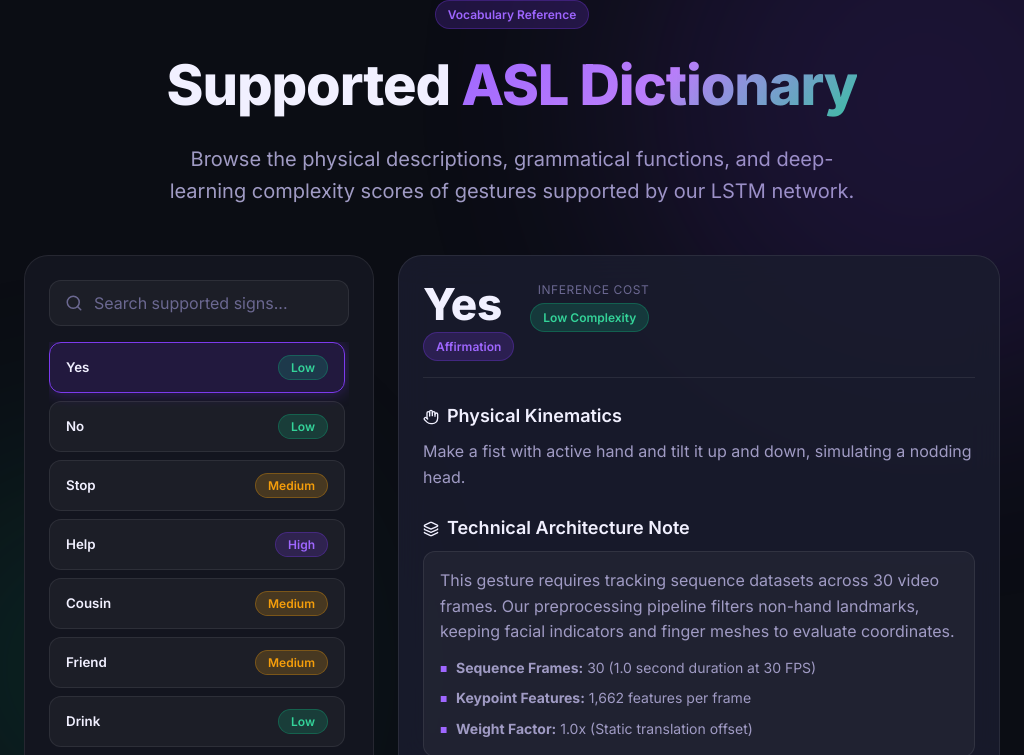
Test: Dictionary Component › filters dictionary items based on search query
Find the search input and type 'thank you'
Type "apple" into the field with placeholder "Search supported signs..." at (199, 303), box [49, 280, 349, 326]
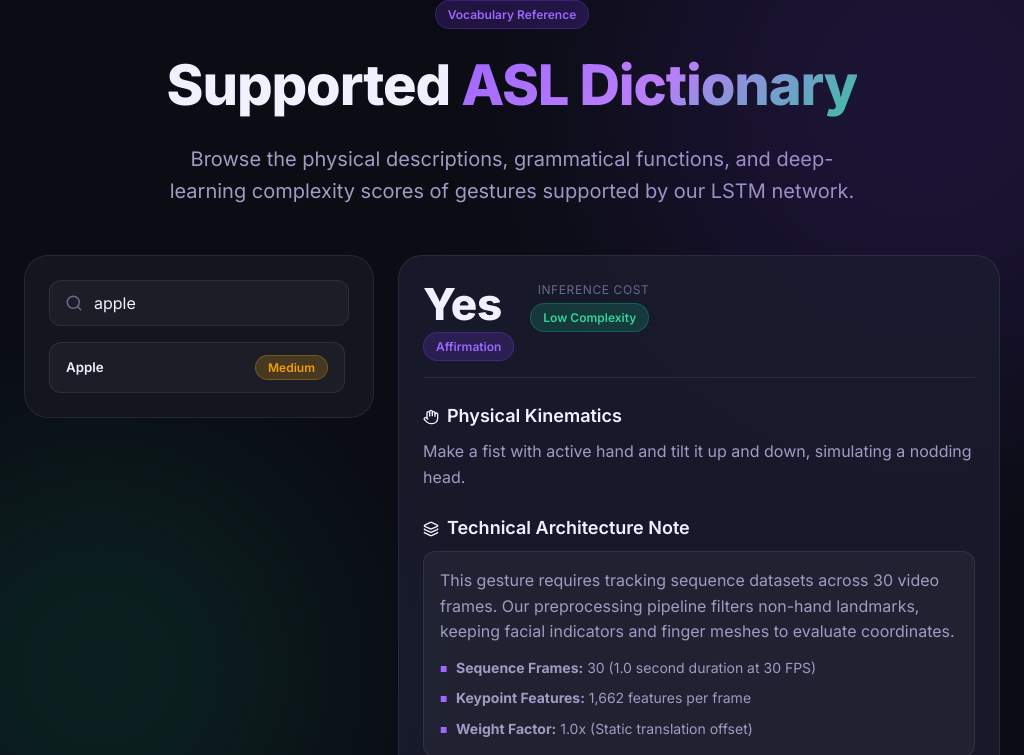
Check: the button is shown, box [49, 342, 345, 393]
